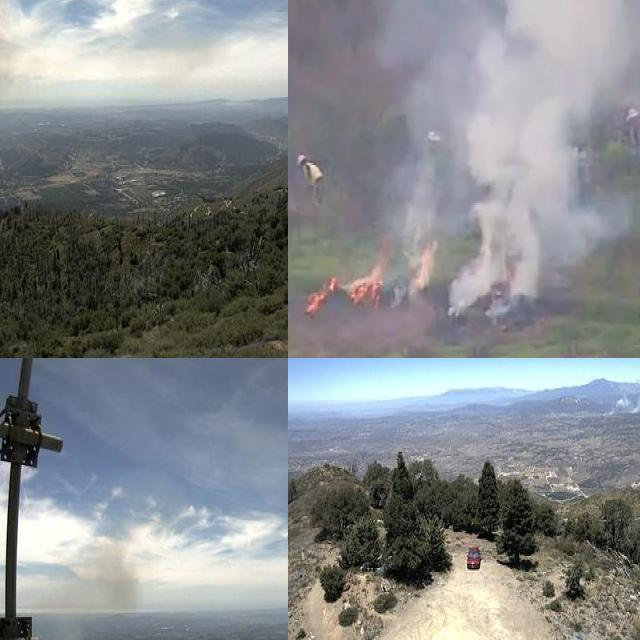fire: (406, 241, 437, 290), (346, 268, 380, 308), (304, 274, 337, 314)
smoke: (374, 0, 640, 319), (24, 527, 139, 640), (593, 375, 640, 417)
